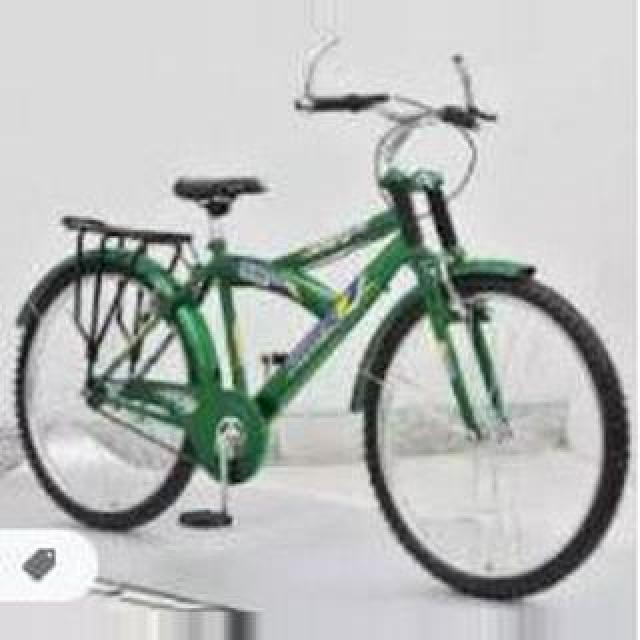Person: (10, 90, 634, 604)
